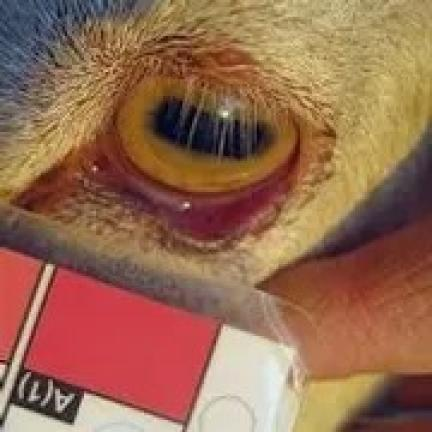goat-eye-anemia-22222222: (87, 152, 223, 242)
